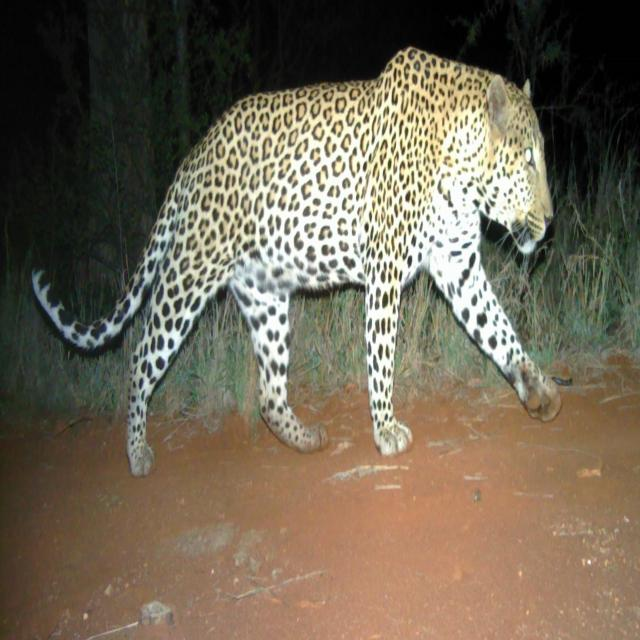Leopard: (48, 53, 561, 484)
